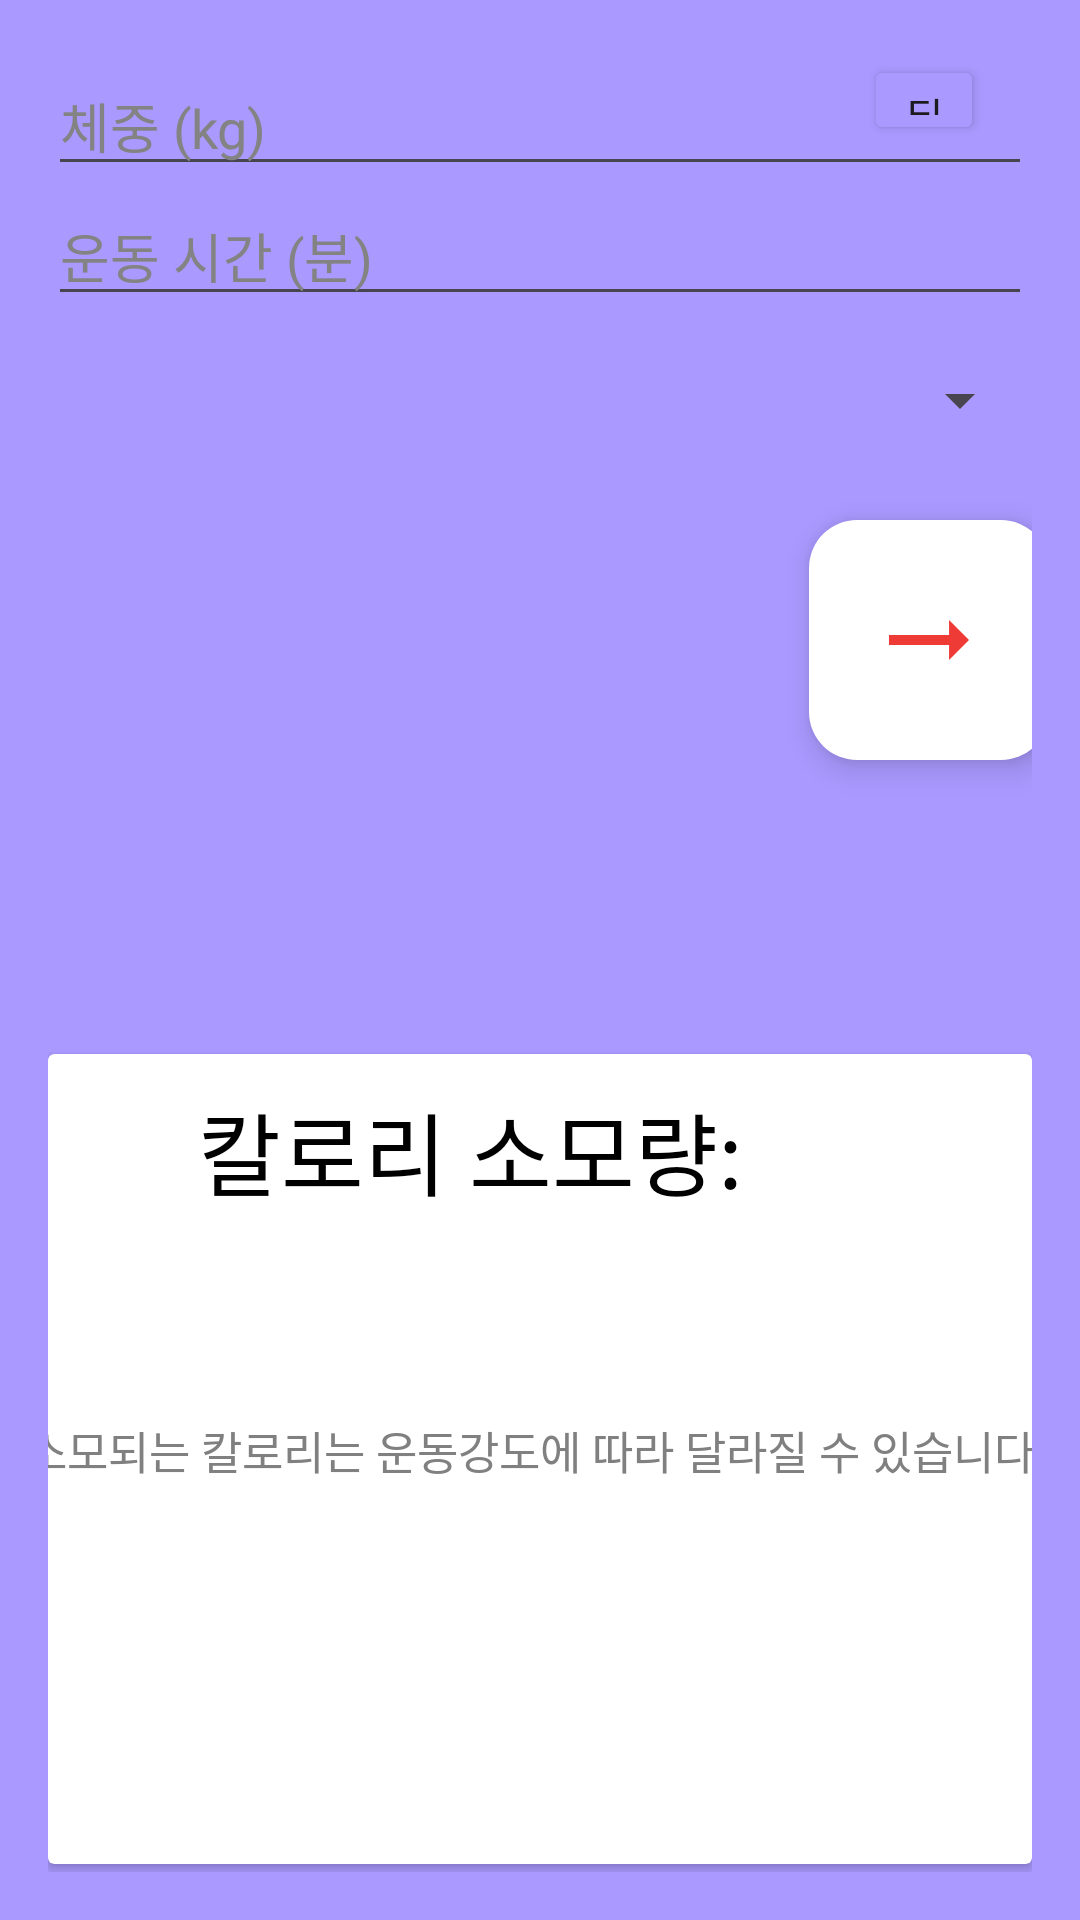

Icons on this 1080px×1920px Android screen, each with its box as bbox=(x1, y1, x2, y2):
arrow right: bbox=(809, 520, 1032, 765)
